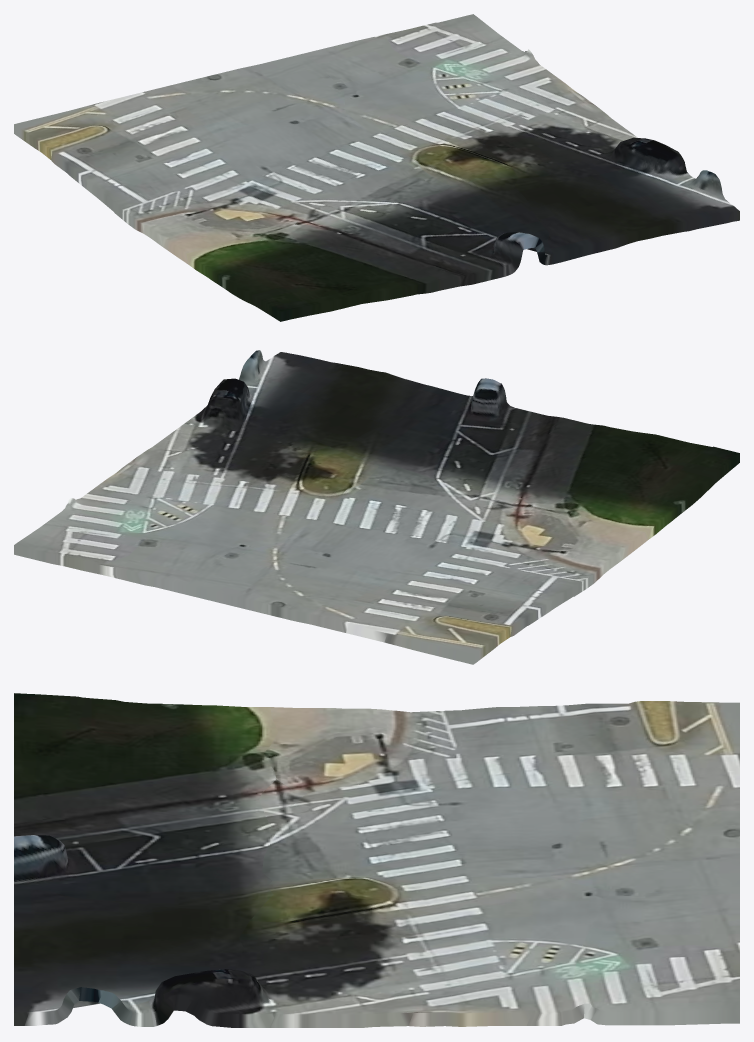
Rendered from z20-167781-405217-h0-yup-uvflip-v3-world.glb.
The picture shows the model from 3 angles, top to bottom: view 1: azimuth 30°, elevation 25°; view 2: azimuth 150°, elevation 25°; view 3: azimuth 270°, elevation 25°; orthographic projection. The views are drawn at different scales.
Bounding box in the file's own units: 30.16 × 2.36 × 30.32.
1 material, 1 textured.
